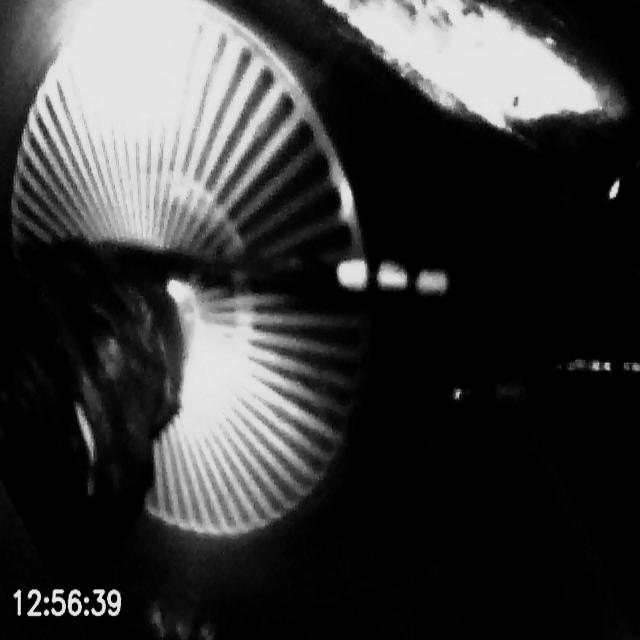white-dots: (335, 258, 449, 298)
